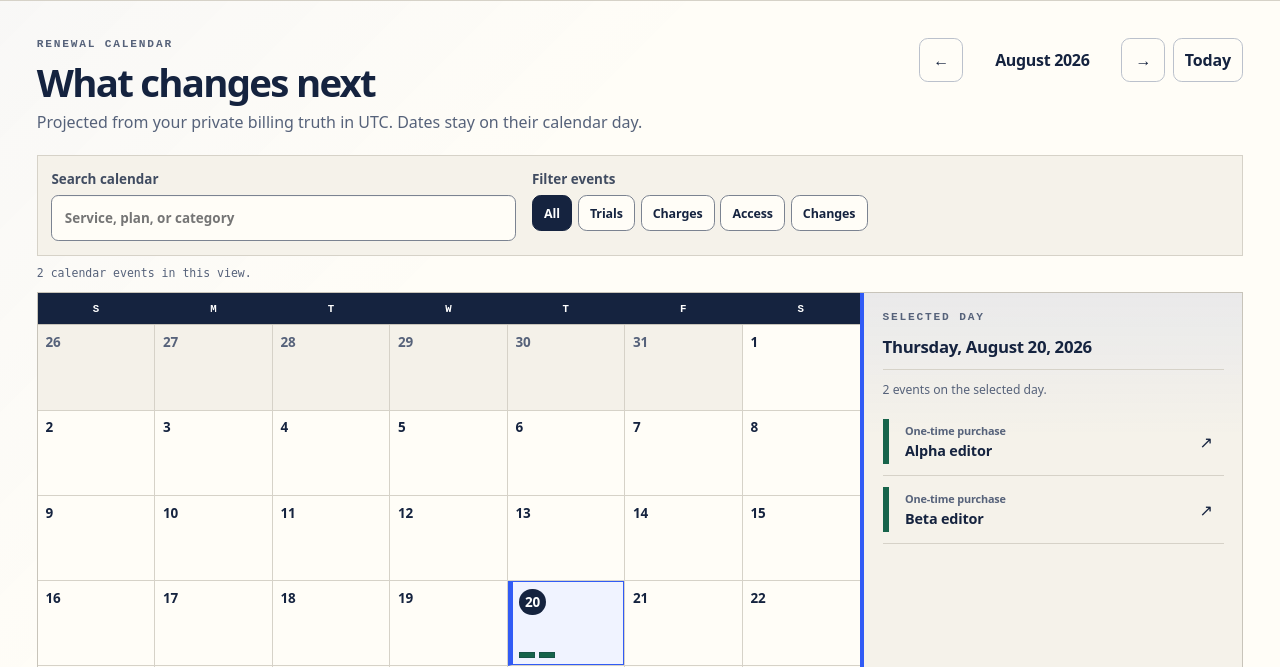
it: CalendarAgendaExperience › announces equal-count search result changes while search keeps focus
The image size is (1280, 667).
Type "alpha" into the search field labelled "Search calendar".
click(284, 218); type("alpha")  # box 51,195 -> 516,241
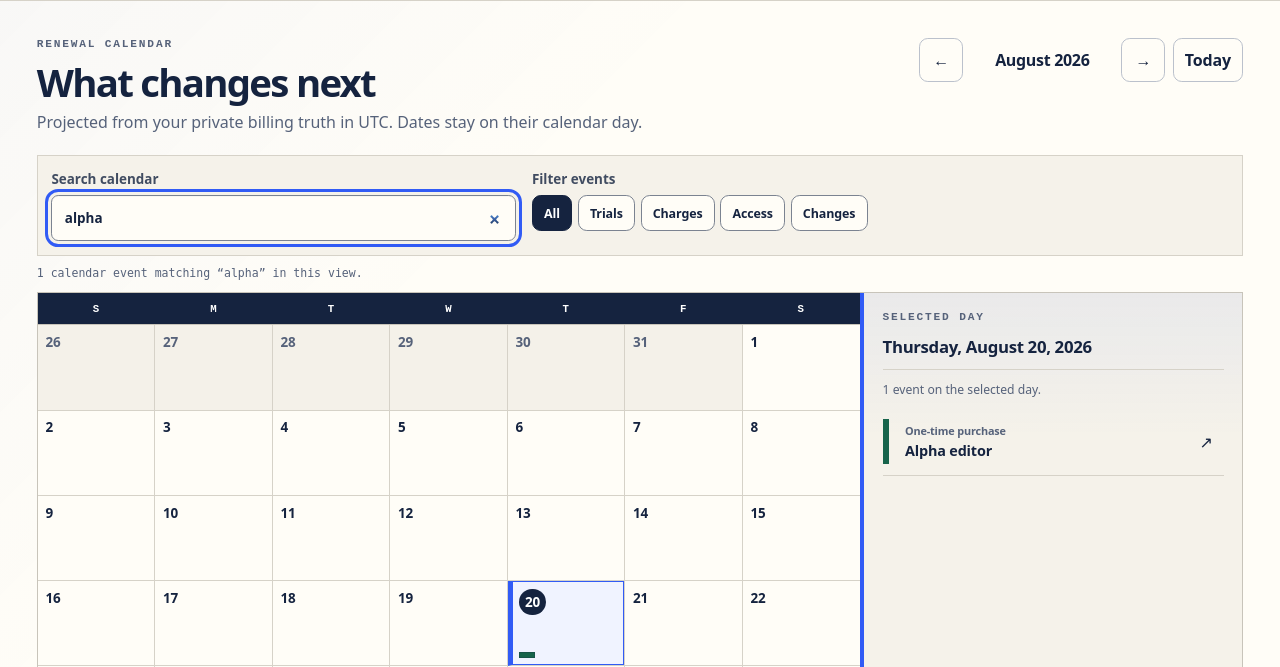
expect the message named "Calendar results" reads "1 calendar event matching “alpha” in this view.": met, box 37,266 -> 363,280
Replace the text in the search field labelled "Search calendar" with "beta" at (284,218), box 51,195 -> 516,241
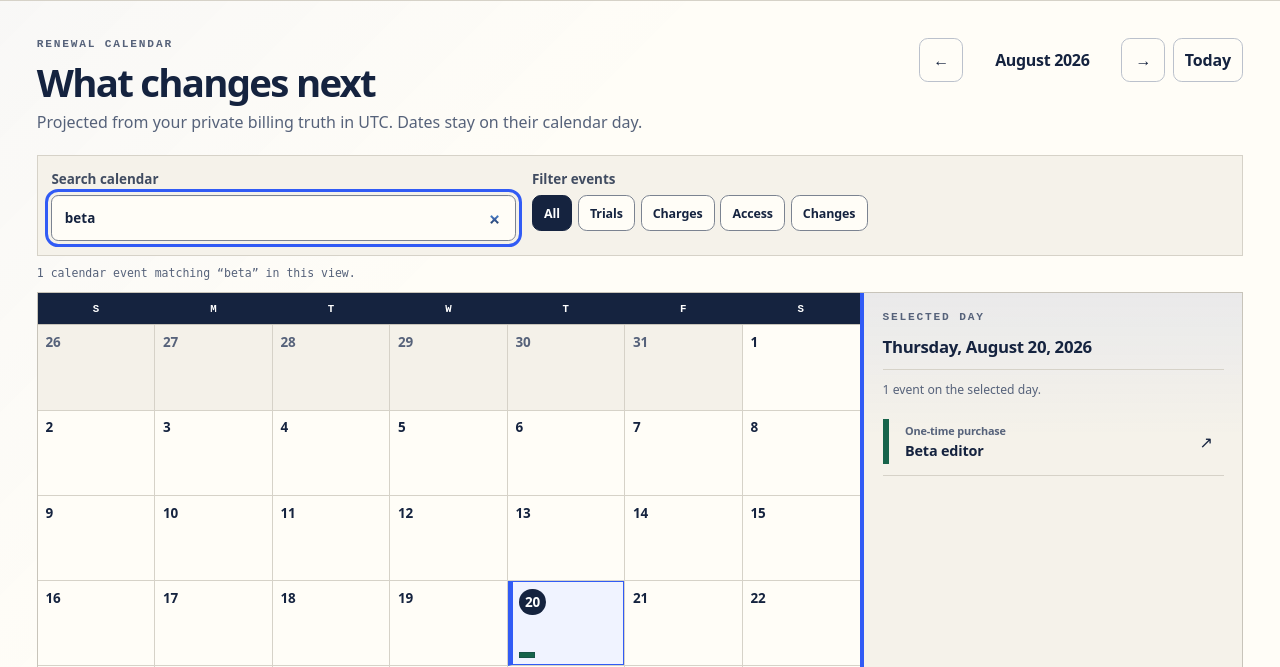
expect the message named "Calendar results" reads "1 calendar event matching “beta” in this view.": met, box 37,266 -> 356,280
